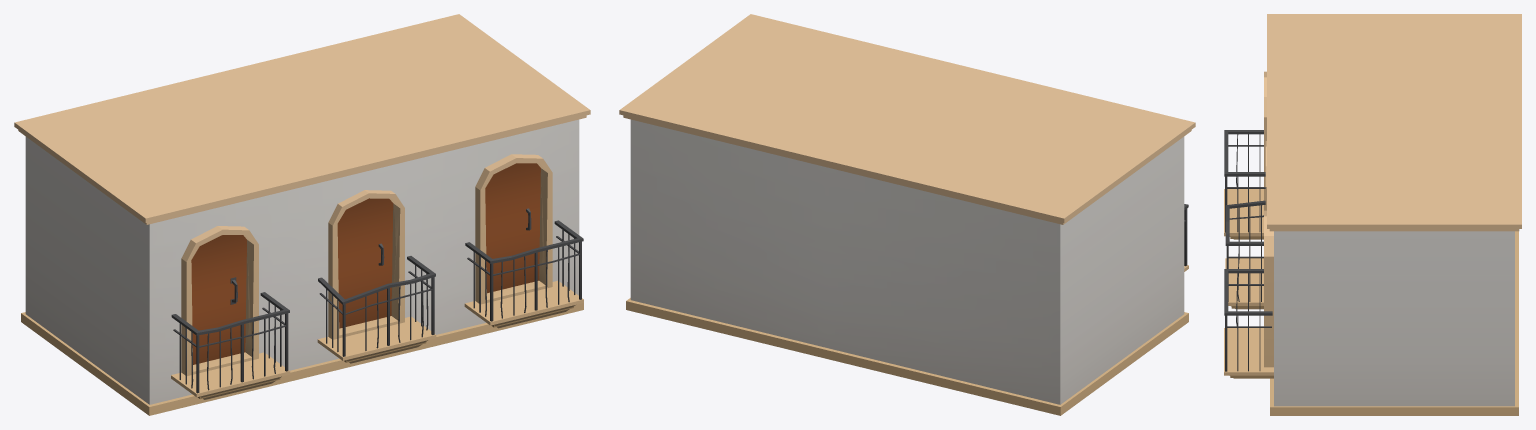
The model's file is Room Long 03.fbx.
The picture shows the model from 3 angles, left to right: view 1: azimuth 30°, elevation 25°; view 2: azimuth 150°, elevation 25°; view 3: azimuth 270°, elevation 25°; orthographic projection. The views are drawn at different scales.
Parts seen in each view (by area): view 1: Room Long 03 high, Room Long 03 low; view 2: Room Long 03 high, Room Long 03 low; view 3: Room Long 03 high.
Boxes of the visible parts, left/top/right/bottom form: Room Long 03 high: left=14, top=14, right=590, bottom=415; Room Long 03 low: left=30, top=140, right=575, bottom=403; Room Long 03 high: left=619, top=14, right=1195, bottom=415; Room Long 03 low: left=1065, top=137, right=1184, bottom=312; Room Long 03 high: left=1224, top=14, right=1521, bottom=415.
Bounding box in the file's own units: 7.76 × 3.33 × 4.64.
Materials: 1 (1 with a texture image).
